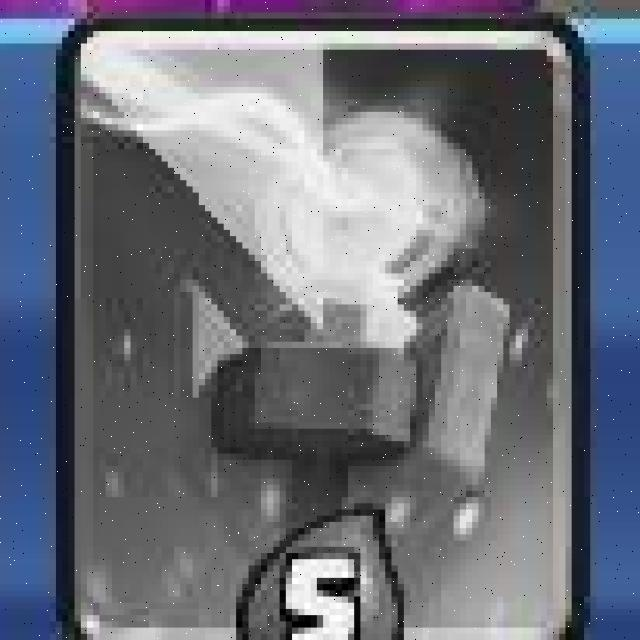Inferno_Tower: (64, 32, 584, 640)
